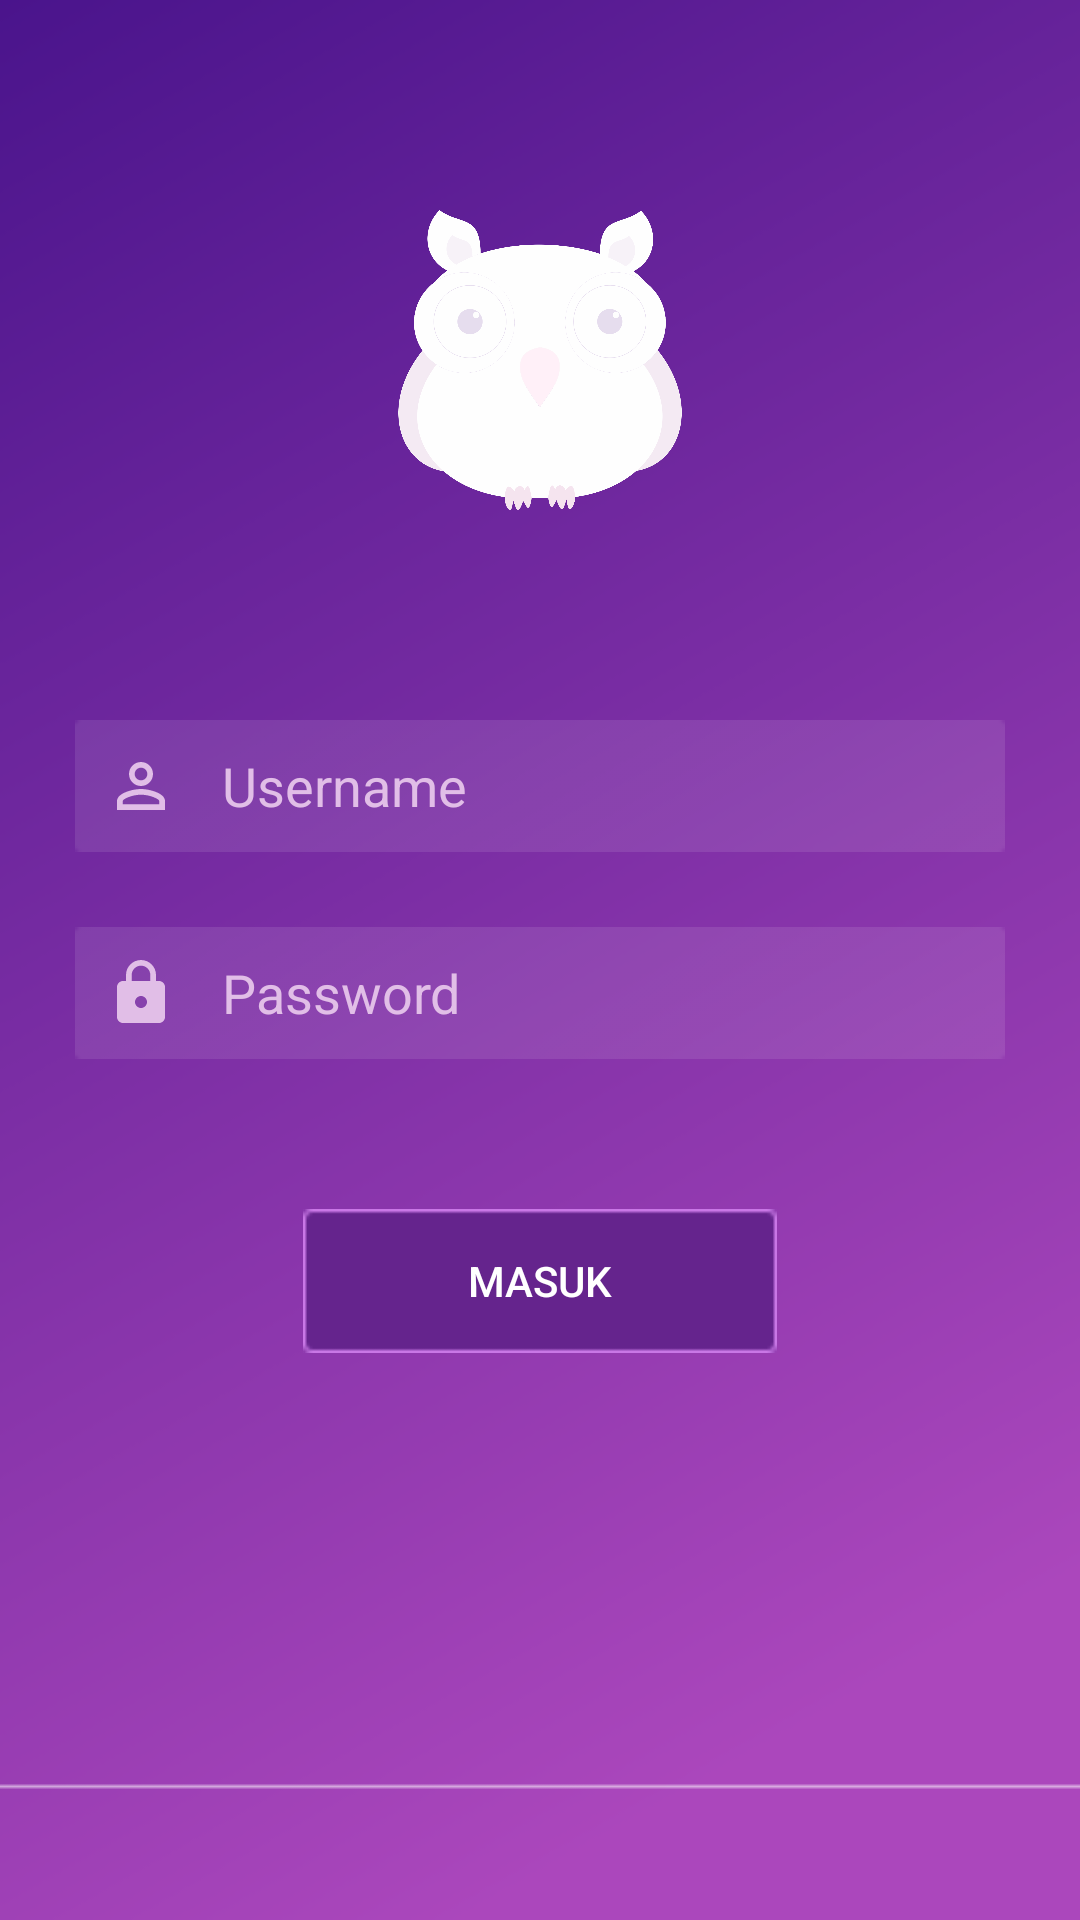

Icon bounding boxes for this 1080x1920 phone screenshot, format (x1, y1, x2, y2):
owl: (398, 210, 682, 510)
